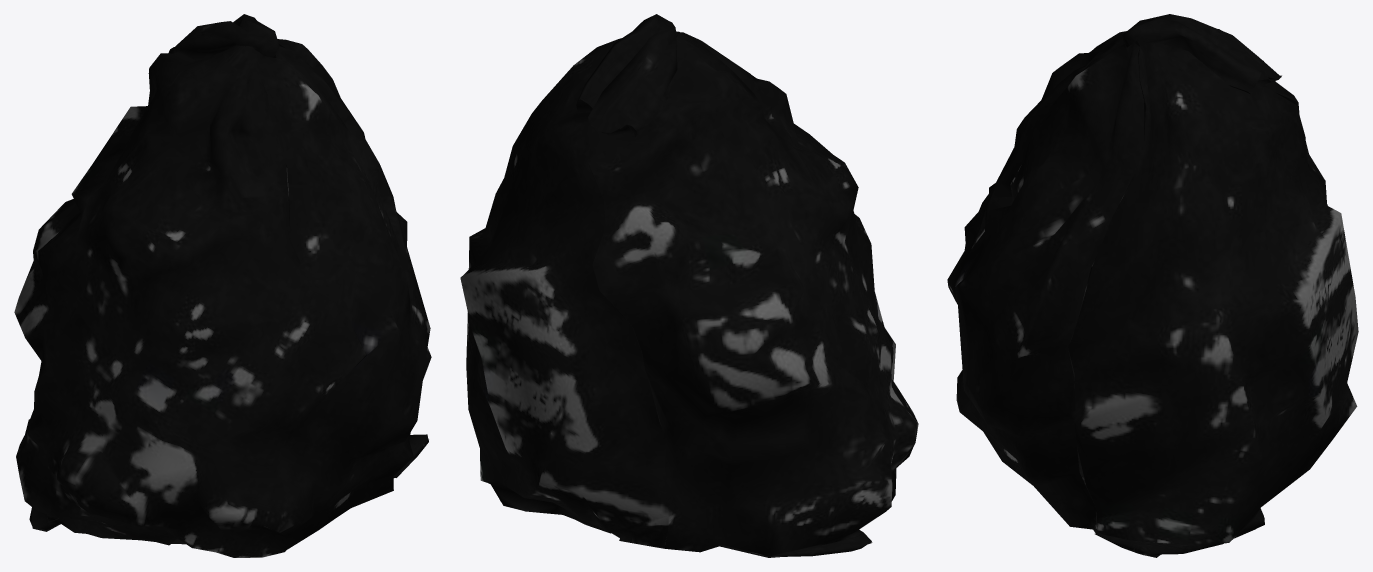
Rendered from isl_trashbag.glb.
3 views of the same model, side by side, from view 1: azimuth 30°, elevation 25°; view 2: azimuth 150°, elevation 25°; view 3: azimuth 270°, elevation 25° (orthographic). The views are drawn at different scales.
Parts seen in each view (by area): view 1: trashbag; view 2: trashbag; view 3: trashbag.
Boxes of the visible parts, box(x1,y1,x2,y2) form: trashbag: box(14, 14, 431, 557); trashbag: box(460, 14, 918, 557); trashbag: box(947, 14, 1358, 557).
Bounding box in the file's own units: 0.5246 × 0.5751 × 0.4624.
1 material, 1 textured.
